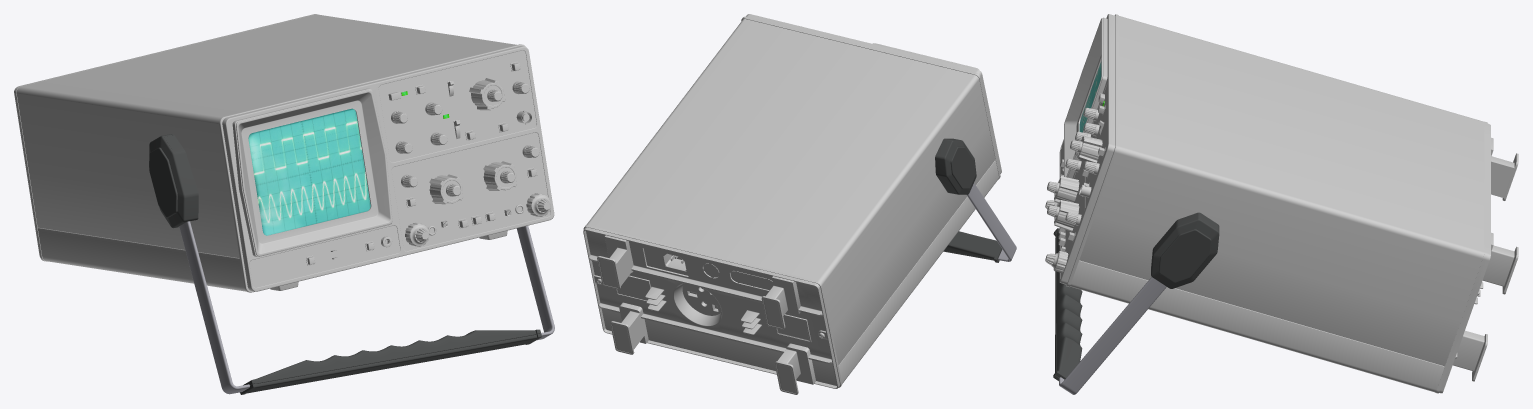
File: Machine .fbx
3 renders of one model, left to right at view 1: azimuth 30°, elevation 25°; view 2: azimuth 150°, elevation 25°; view 3: azimuth 270°, elevation 25°, orthographic. The views are drawn at different scales.
Visible parts, largest first — view 1: echeb_ct_cro_base_001, echeb_ct_cro_handle_001, echeb_ct_cro_screen_001; view 2: echeb_ct_cro_base_001, echeb_ct_cro_handle_001; view 3: echeb_ct_cro_base_001, echeb_ct_cro_handle_001.
Boxes of the visible parts, x1,y1,x2,y2 form: echeb_ct_cro_base_001: [14, 14, 554, 292]; echeb_ct_cro_handle_001: [149, 134, 554, 394]; echeb_ct_cro_screen_001: [248, 91, 449, 235]; echeb_ct_cro_base_001: [583, 14, 1001, 394]; echeb_ct_cro_handle_001: [935, 138, 1016, 262]; echeb_ct_cro_base_001: [1045, 14, 1518, 393]; echeb_ct_cro_handle_001: [1053, 212, 1219, 394].
Bounding box in the file's own units: 32.22 × 24.89 × 42.18.
